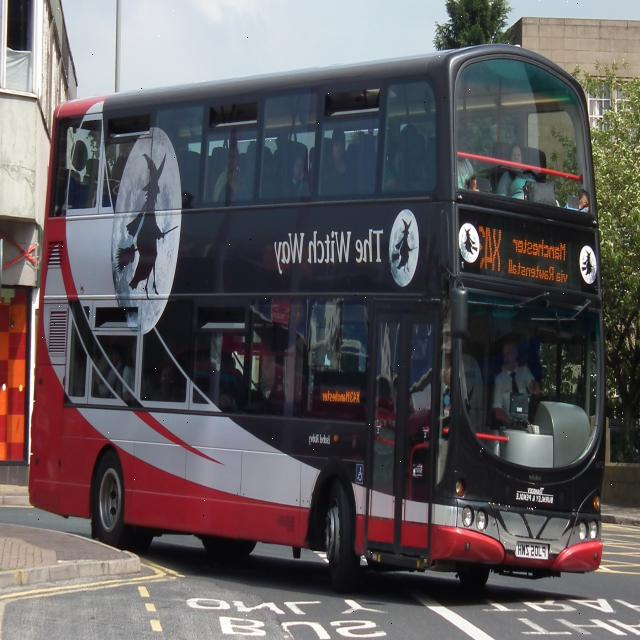Bus: (30, 42, 605, 580)
